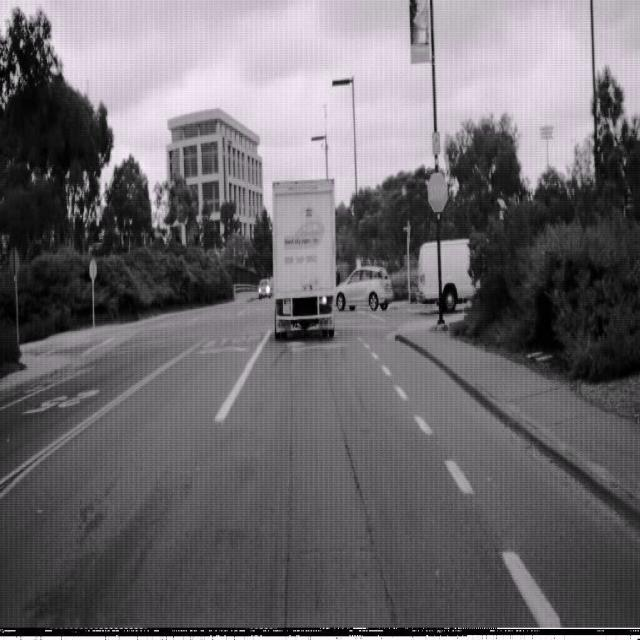stop_sign: (427, 170, 448, 213)
